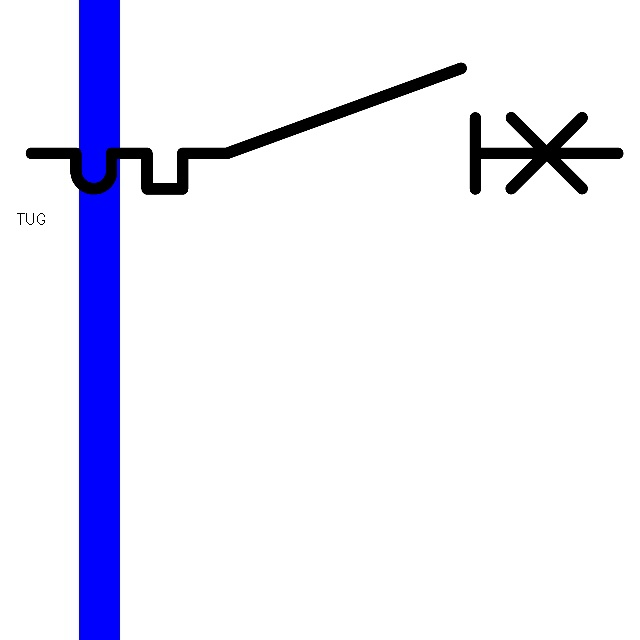interruptor_termomagnetico: (16, 53, 633, 204)
